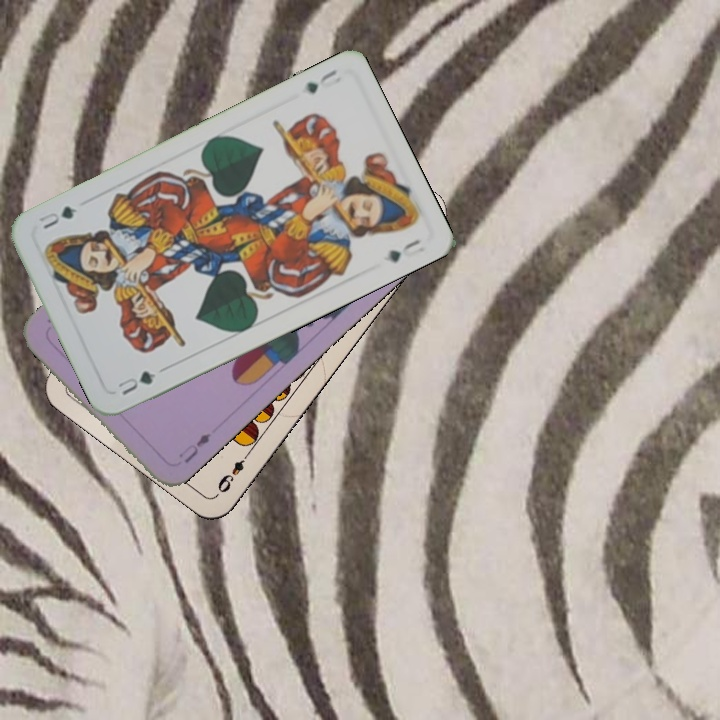E9: (213, 447, 253, 496)
EU: (174, 429, 214, 466)
GU: (113, 366, 159, 398), (300, 65, 343, 97)
